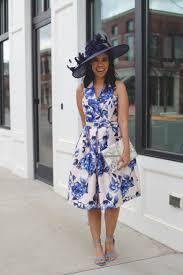Person: (58, 26, 148, 267)
